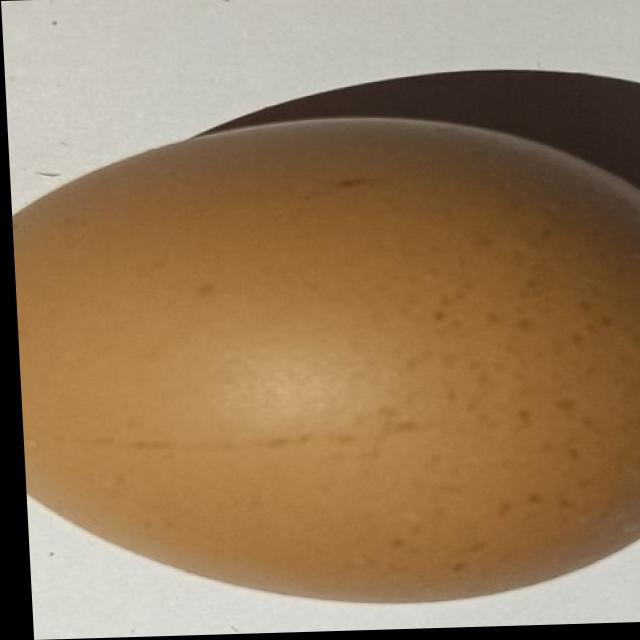unfresh: (5, 104, 640, 636)
